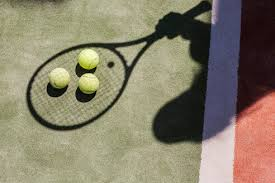tennis_ball: (47, 67, 70, 90), (78, 48, 99, 70), (78, 72, 98, 93)
